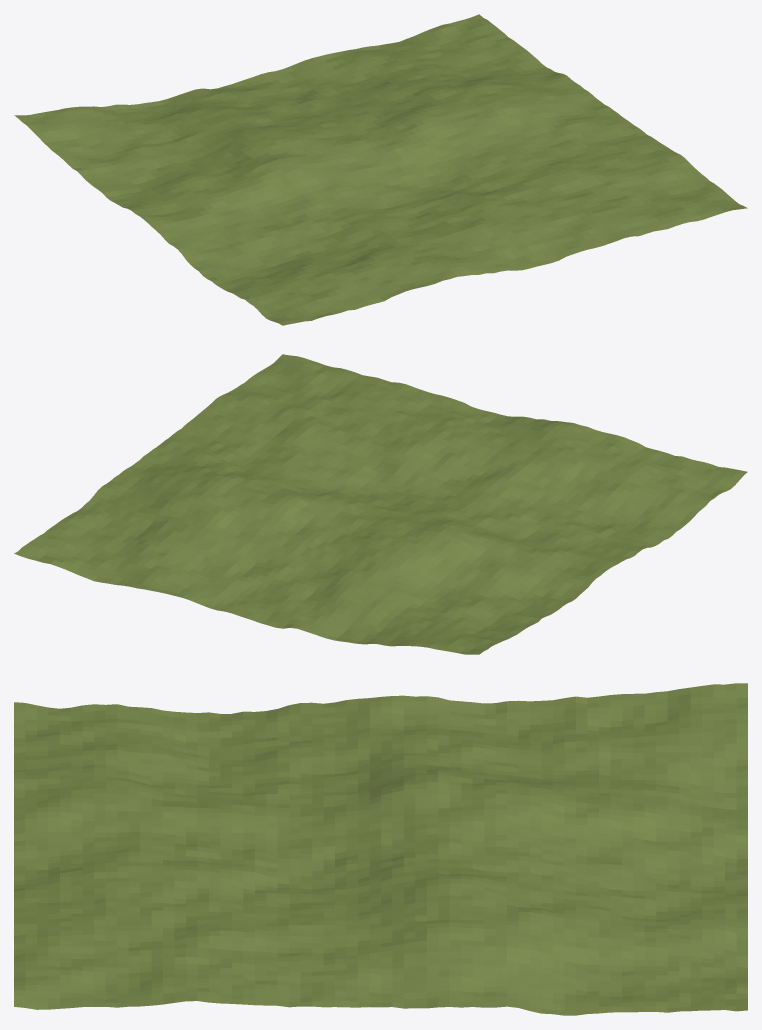
Rendered from flatgrass.gltf.
3 views of the same model, one above another, from view 1: azimuth 30°, elevation 25°; view 2: azimuth 150°, elevation 25°; view 3: azimuth 270°, elevation 25° (orthographic). The views are drawn at different scales.
Visible parts, largest first — view 1: Plane; view 2: Plane; view 3: Plane.
Boxes of the visible parts, bbox=[...] form: Plane: bbox=[14, 14, 747, 325]; Plane: bbox=[14, 354, 747, 654]; Plane: bbox=[14, 683, 747, 1015].
Bounding box in the file's own units: 256 × 13.28 × 256.
